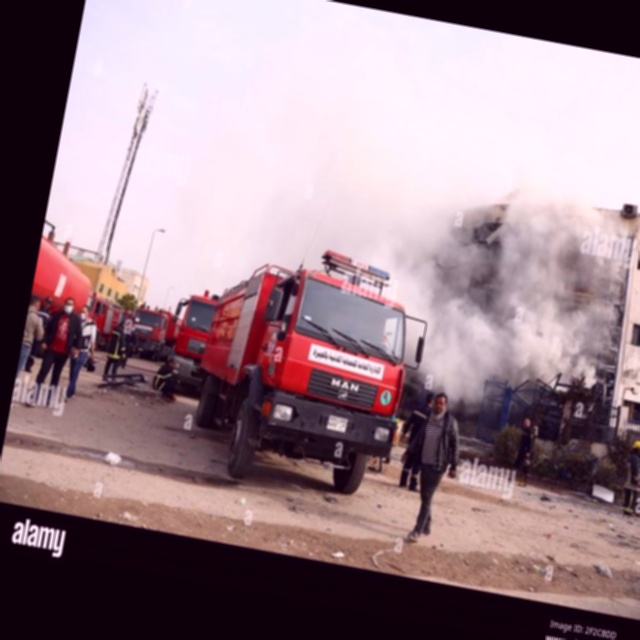Fire-truck: (179, 229, 439, 509), (113, 293, 181, 356)
person: (387, 387, 471, 546), (390, 387, 438, 493), (61, 303, 103, 405), (509, 417, 539, 487), (149, 353, 185, 404), (617, 439, 640, 516), (629, 440, 640, 516)
